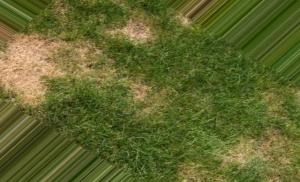patch: (11, 47, 38, 93), (239, 145, 250, 159), (46, 55, 56, 69), (130, 27, 144, 36)
